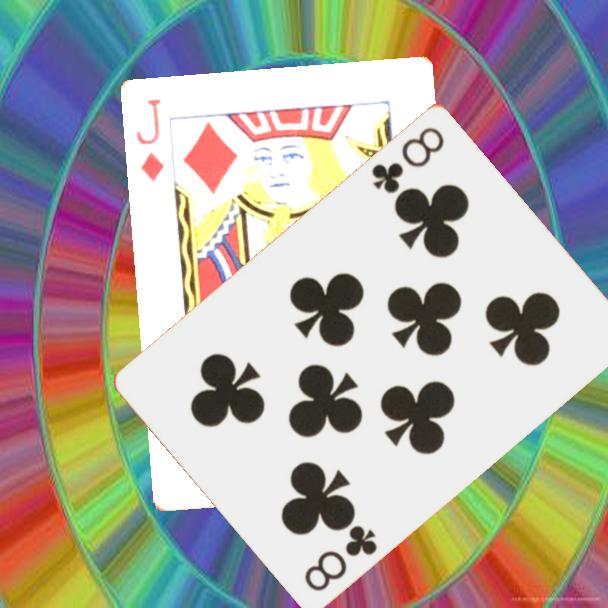c08: (367, 122, 448, 196), (300, 520, 381, 594)
d11: (133, 96, 167, 185)
